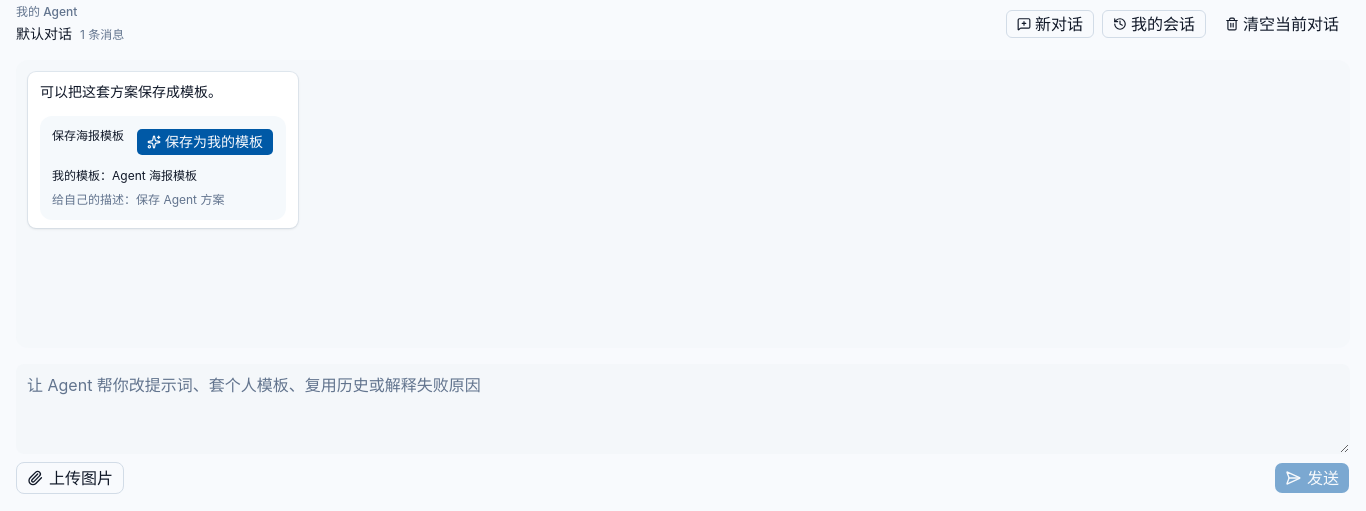
Scenario: AgentChatPanel › saves a createTemplate action as a user template after confirmation
Expected: the text "我的模板：Agent 海报模板" is shown, [52, 168, 197, 183]
Expected: the text "给自己的描述：保存 Agent 方案" is shown, [52, 192, 224, 207]
Click the button "保存为我的模板": (205, 142) [136, 128, 274, 156]
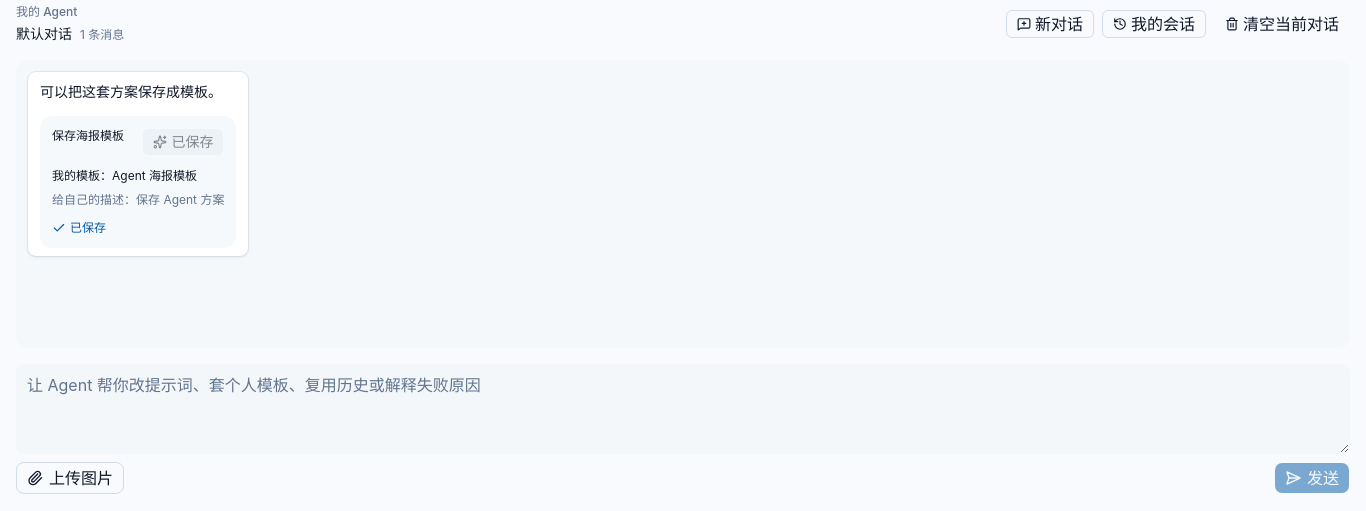
Now the button "已保存" is shown, box [142, 128, 224, 156]
